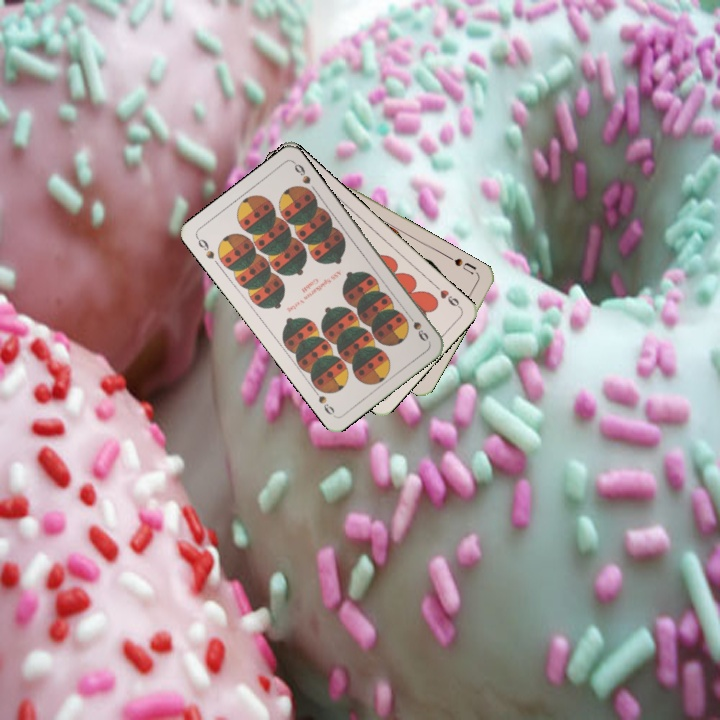H9: (430, 280, 463, 311)
S9: (403, 309, 431, 344), (192, 233, 217, 262)
SU: (444, 252, 479, 277)
